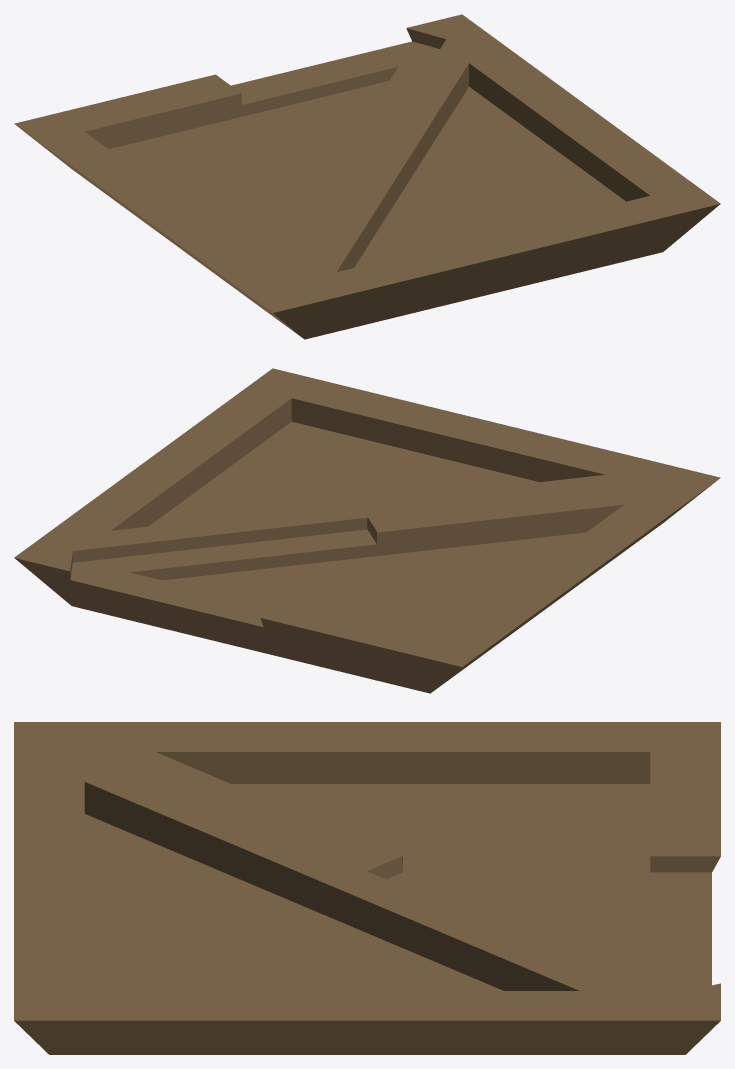
File: crate_face05_broken.fbx
3 renders of one model, top to bottom at view 1: azimuth 30°, elevation 25°; view 2: azimuth 150°, elevation 25°; view 3: azimuth 270°, elevation 25°, orthographic. The views are drawn at different scales.
Visible parts, largest first — view 1: crateFace055, crateFace059, crateFace061, crateFace057, crateFace065, crateFace066, crateFace060, crateFace064, crateFace056, crateFace062, crateFace063; view 2: crateFace055, crateFace057, crateFace066, crateFace061, crateFace059, crateFace065, crateFace060, crateFace056, crateFace062, crateFace063; view 3: crateFace055, crateFace061, crateFace059, crateFace065, crateFace066, crateFace060, crateFace057, crateFace056, crateFace063, crateFace062, crateFace064.
Boxes of the visible parts, x1=… form: crateFace055: x1=402, y1=119, x2=691, y2=290; crateFace059: x1=286, y1=163, x2=519, y2=327; crateFace061: x1=368, y1=38, x2=604, y2=190; crateFace057: x1=231, y1=41, x2=439, y2=175; crateFace065: x1=32, y1=105, x2=321, y2=242; crateFace066: x1=131, y1=160, x2=362, y2=321; crateFace060: x1=14, y1=74, x2=241, y2=215; crateFace064: x1=259, y1=284, x2=354, y2=339; crateFace056: x1=406, y1=14, x2=493, y2=48; crateFace062: x1=239, y1=287, x2=322, y2=326; crateFace063: x1=671, y1=183, x2=720, y2=230; crateFace055: x1=157, y1=380, x2=473, y2=510; crateFace057: x1=64, y1=529, x2=376, y2=654; crateFace066: x1=367, y1=487, x2=686, y2=615; crateFace061: x1=46, y1=453, x2=367, y2=562; crateFace059: x1=358, y1=417, x2=659, y2=528; crateFace065: x1=264, y1=556, x2=564, y2=693; crateFace060: x1=260, y1=532, x2=578, y2=673; crateFace056: x1=14, y1=534, x2=72, y2=599; crateFace062: x1=667, y1=465, x2=720, y2=507; crateFace063: x1=244, y1=368, x2=322, y2=389; crateFace055: x1=14, y1=887, x2=335, y2=1054; crateFace061: x1=331, y1=871, x2=661, y2=1054; crateFace059: x1=14, y1=748, x2=371, y2=917; crateFace065: x1=403, y1=768, x2=650, y2=888; crateFace066: x1=84, y1=722, x2=402, y2=879; crateFace060: x1=401, y1=722, x2=720, y2=872; crateFace057: x1=387, y1=872, x2=711, y2=1054; crateFace056: x1=633, y1=983, x2=720, y2=1050; crateFace063: x1=14, y1=987, x2=92, y2=1039; crateFace062: x1=14, y1=722, x2=106, y2=755; crateFace064: x1=14, y1=740, x2=84, y2=762.
Size of the model in its own units: 40 by 4 by 40.
